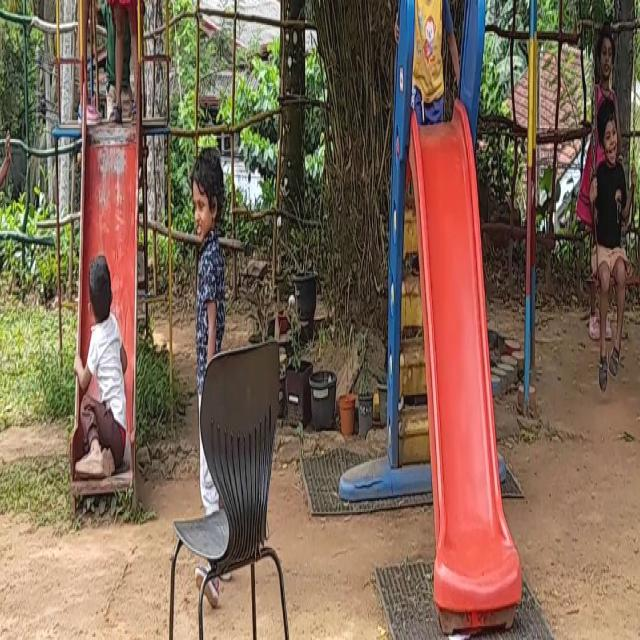child: (63, 225, 135, 502), (586, 24, 626, 379), (182, 125, 226, 368), (405, 0, 450, 125)
